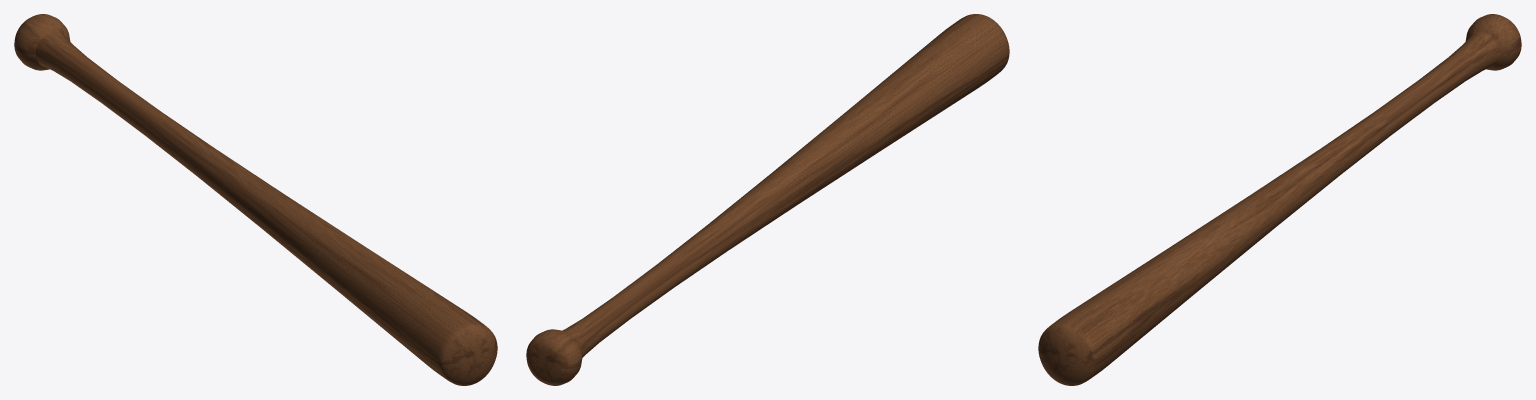
The model's file is Baseball_Bal_Wooden.fbx.
3 views of the same model, side by side, from view 1: azimuth 30°, elevation 25°; view 2: azimuth 150°, elevation 25°; view 3: azimuth 330°, elevation 25° (orthographic).
Parts seen in each view (by area): view 1: bat; view 2: bat; view 3: bat.
Part boxes in pixels (x1,y1,x2,y2): bat: (14, 14, 497, 385); bat: (526, 14, 1009, 385); bat: (1038, 14, 1521, 385).
Bounding box in the file's own units: 209 × 209 × 2762.
1 material, 1 textured.
